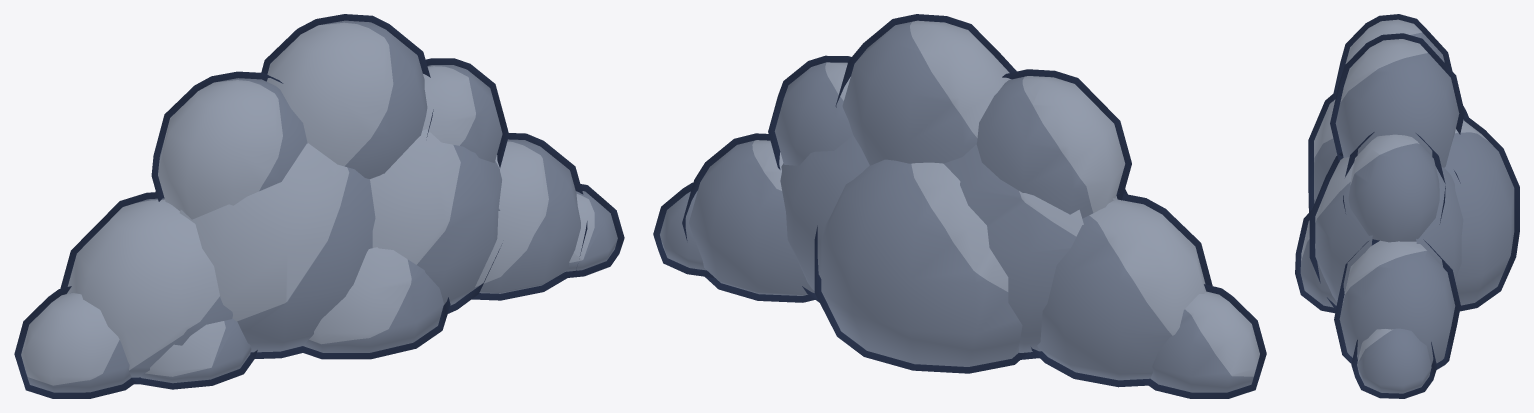
The model's file is storm_cloud.glb.
3 renders of one model, left to right at view 1: azimuth 30°, elevation 25°; view 2: azimuth 150°, elevation 25°; view 3: azimuth 270°, elevation 25°, orthographic. The views are drawn at different scales.
Parts seen in each view (by area): view 1: storm_cloud, storm_cloud_ink; view 2: storm_cloud, storm_cloud_ink; view 3: storm_cloud, storm_cloud_ink.
Boxes of the visible parts, box(x1,y1,x2,y2) form: storm_cloud: box(21, 20, 617, 392); storm_cloud_ink: box(14, 14, 624, 398); storm_cloud: box(660, 20, 1259, 392); storm_cloud_ink: box(653, 14, 1266, 398); storm_cloud: box(1300, 19, 1514, 393); storm_cloud_ink: box(1295, 14, 1519, 398).
Bounding box in the file's own units: 1.02 × 0.477 × 0.3917.
